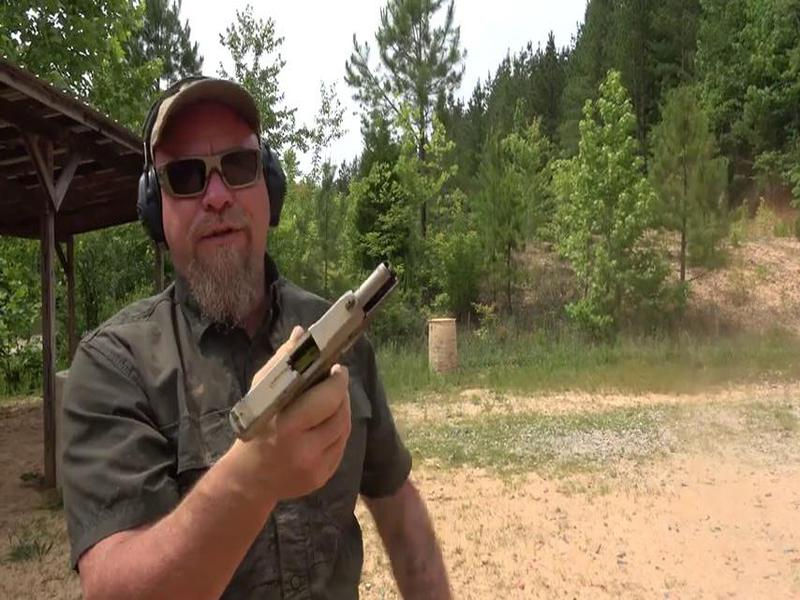Pistola: (218, 235, 417, 468)
